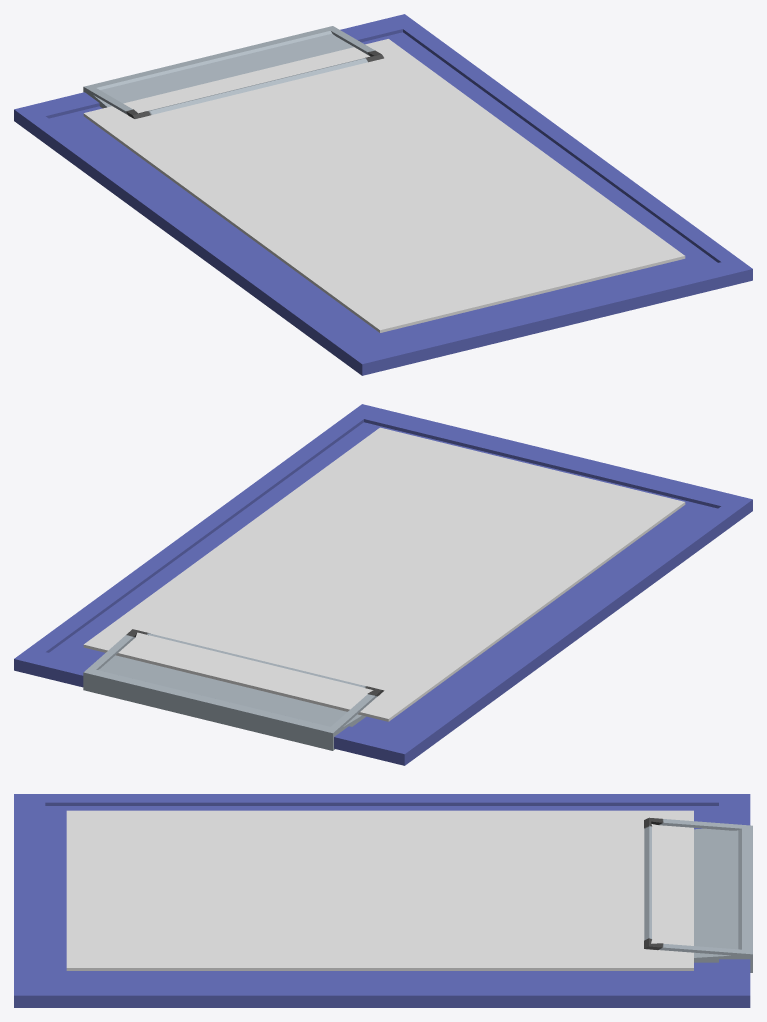
Rendered from Clipboard1.fbx.
3 views of the same model, one above another, from view 1: azimuth 30°, elevation 25°; view 2: azimuth 150°, elevation 25°; view 3: azimuth 270°, elevation 25° (orthographic). The views are drawn at different scales.
Visible parts, largest first — view 1: Clipboard_Clipper.002; view 2: Clipboard_Clipper.002; view 3: Clipboard_Clipper.002.
Boxes of the visible parts, x1=… form: Clipboard_Clipper.002: x1=14, y1=14, x2=752, y2=375; Clipboard_Clipper.002: x1=14, y1=404, x2=752, y2=765; Clipboard_Clipper.002: x1=14, y1=794, x2=752, y2=1007.
Bounding box in the file's own units: 313 × 19.32 × 485.
Materials: 1 (1 with a texture image).
